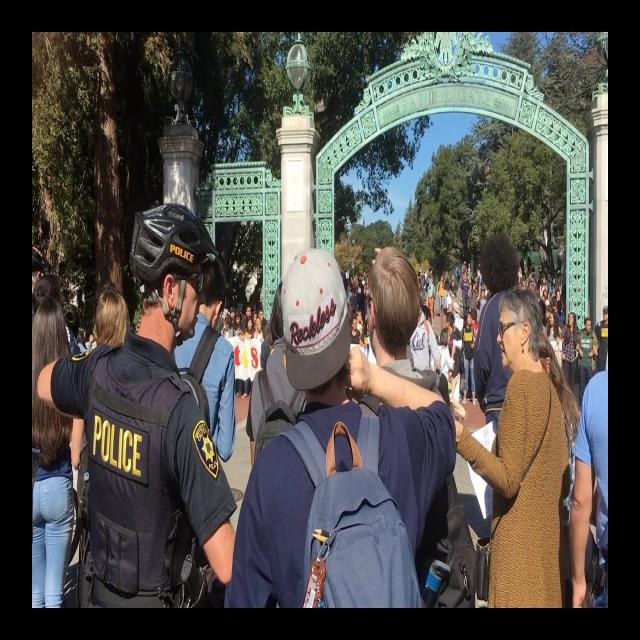body: (222, 242, 458, 610), (35, 200, 240, 613), (348, 246, 481, 610), (450, 285, 572, 609), (526, 241, 608, 606), (171, 254, 237, 465), (32, 298, 74, 609), (244, 279, 310, 472), (415, 254, 489, 412), (36, 254, 130, 366), (472, 231, 520, 427), (212, 299, 272, 397), (343, 262, 375, 350)
